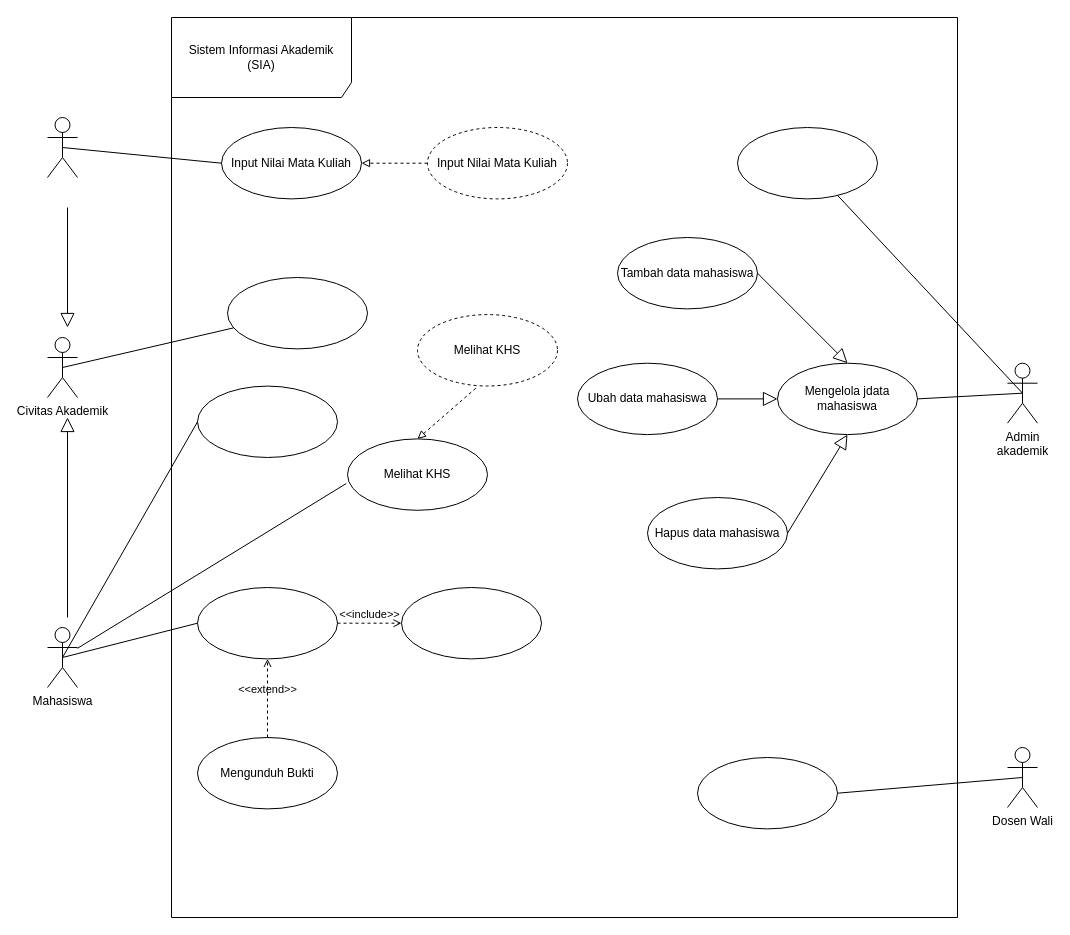
This 1070x935 diagram has some shape labels left out. The centre of each missing label's shape, as x and y in pixels:
"Dosen" goes at (x=62, y=147).
"Lihat kalender akademik" goes at (x=297, y=312).
"Melihat jadwal" goes at (x=267, y=421).
"Memproses keputusan KRS" goes at (x=767, y=792).
"Memvalidasi KRS" goes at (x=471, y=622).
"Mengajukan KRS" goes at (x=267, y=622).
"Mengelola jadwal kuliah" goes at (x=807, y=162).
